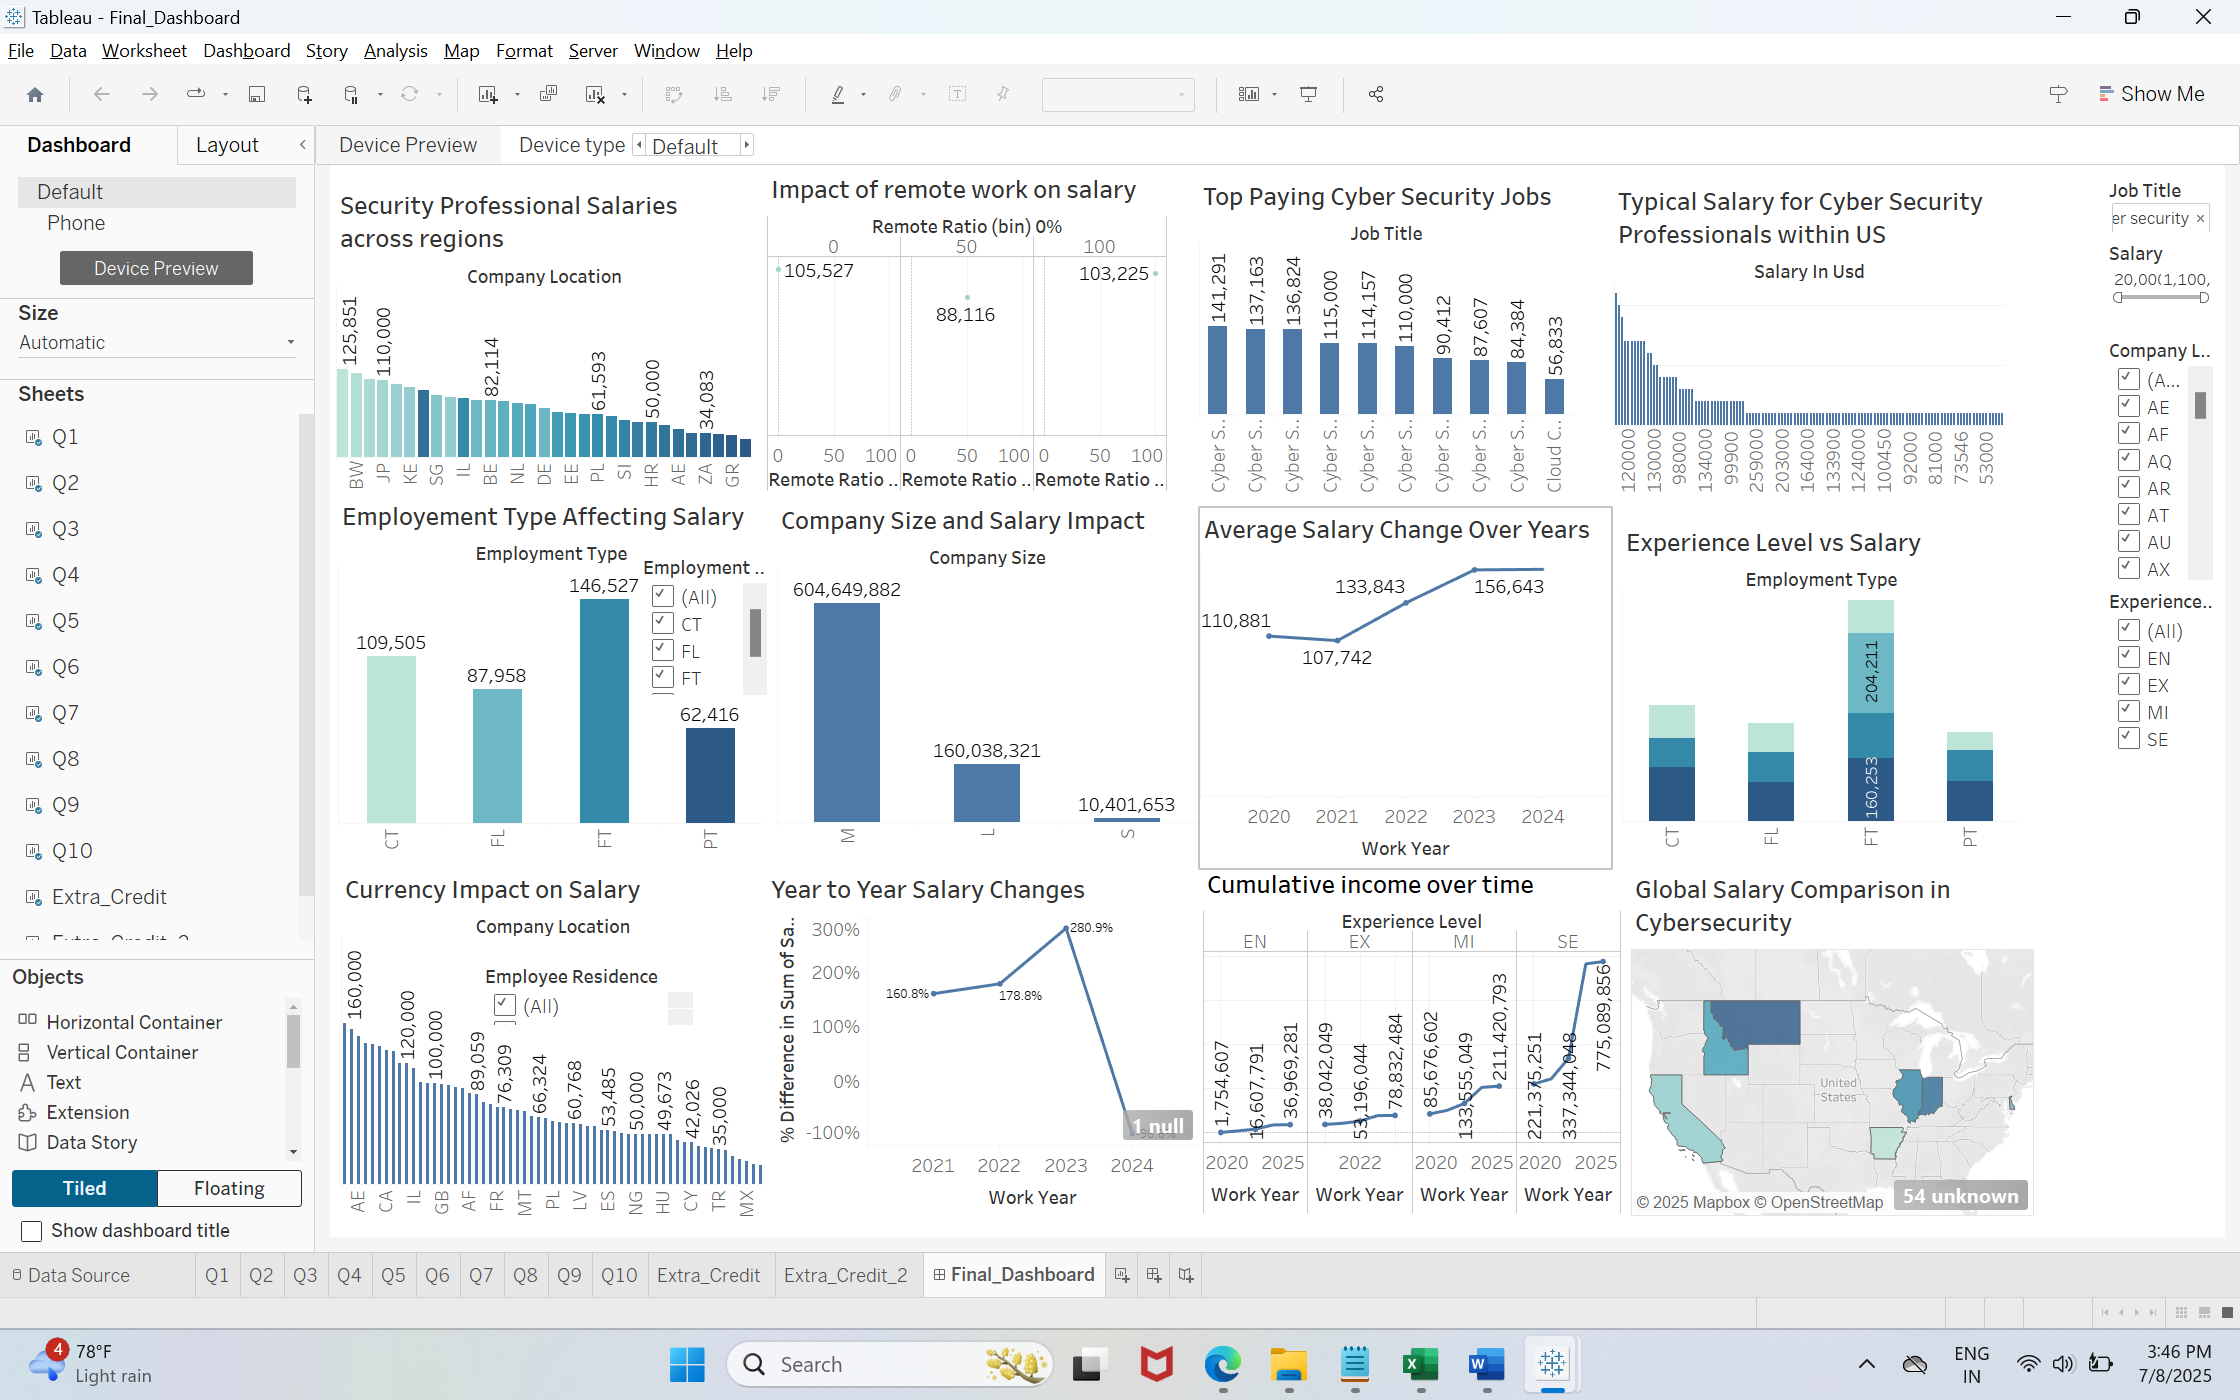

This screenshot's page, from the dashboard's own definition file:
{"tool":"tableau","page":{"name":"Final_Dashboard","canvas":[1000,1000],"units":"permille","ordinal":0},"visuals":[{"type":"worksheet","title":"Q2","mark":"Heatmap","rows":["salary_in_usd"],"cols":["Remote Ratio (bin) 2","Remote Ratio (bin)"],"box":[230.8,3,210.8,302.1]},{"type":"filter","title":"Q1","param":"[federated.1f91c411hm4wa51ars6zq0c63l0m (copy)].[none:job_title:nk]","box":[936.7,7.5,59.1,58.8]},{"type":"worksheet","title":"Q7","mark":"Automatic","rows":["salary_in_usd"],"cols":["job_title"],"box":[458.3,9.1,197.5,297.6]},{"type":"worksheet","title":"Q10","mark":"Bar","rows":["salaries.csv_90762AF2E223499099EDF7A3FD068BE3"],"cols":["salary_in_usd"],"box":[677.5,13.6,205.8,293.1]},{"type":"worksheet","title":"Q1","mark":"Automatic","rows":["salary_in_usd"],"cols":["company_location"],"box":[3.2,18.2,219.7,286.3]},{"type":"filter","title":"Q5","param":"[federated.1f91c411hm4wa51ars6zq0c63l0m (copy)].[sum:salary:qk]","box":[936.7,66.2,59.1,90.5]},{"type":"filter","title":"Q3","param":"[federated.1f91c411hm4wa51ars6zq0c63l0m (copy)].[none:company_location:nk]","box":[936.7,156.7,59.1,234.1]},{"type":"worksheet","title":"Q9","mark":"Automatic","rows":["salary_in_usd"],"cols":["employment_type"],"box":[4.2,308.2,225,342.9]},{"type":"worksheet","title":"Q6","mark":"Automatic","rows":["salary_in_usd"],"cols":["company_size"],"box":[235.8,311.2,221.7,338.4]},{"type":"worksheet","title":"Q8","mark":"Automatic","rows":["salary_in_usd"],"cols":["work_year"],"box":[459.2,320.2,216.7,335.4]},{"type":"worksheet","title":"Q3","mark":"Automatic","rows":["salary_in_usd"],"cols":["employment_type"],"box":[681.7,332.3,210,315.7]},{"type":"filter","title":"Q9","param":"[federated.1f91c411hm4wa51ars6zq0c63l0m].[none:employment_type:nk]","box":[165,362.5,65.8,131.4]},{"type":"filter","title":"Q3","param":"[federated.1f91c411hm4wa51ars6zq0c63l0m (copy)].[none:experience_level:nk]","box":[936.7,390.9,59.1,206.2]},{"type":"worksheet","title":"Extra_Credit_2","mark":"Automatic","rows":["salary_in_usd"],"cols":["experience_level","work_year"],"box":[460.8,651.1,220.8,327.8]},{"type":"worksheet","title":"Q4","mark":"Automatic","rows":["salary_in_usd"],"cols":["company_location"],"box":[5.8,655.6,223.3,332.3]},{"type":"worksheet","title":"Extra_Credit","mark":"Automatic","rows":["salary_in_usd"],"cols":["work_year"],"box":[230.8,655.6,227.5,324.8]},{"type":"worksheet","title":"Q5","mark":"Multipolygon","box":[686.7,655.6,212.5,324.8]},{"type":"filter","title":"Q4","param":"[federated.1f91c411hm4wa51ars6zq0c63l0m (copy)].[none:employee_residence:nk]","box":[81.7,744.7,110,57.4]}]}

Visuals, with their boxes on the dashboard's canvas, which has no fixed pixel size, in thousandths of its width and height (x1, y1, x2, y2). These are canvas units, not pixel positions in the 2240x1400 screenshot, which may show the page scaled, cropped or inside an application window:
"Q2" worksheet (Heatmap marks): <box>231,3,442,305</box>
"Q1" filter: <box>937,8,996,66</box>
"Q7" worksheet: <box>458,9,656,307</box>
"Q10" worksheet (Bar marks): <box>678,14,883,307</box>
"Q1" worksheet: <box>3,18,223,304</box>
"Q5" filter: <box>937,66,996,157</box>
"Q3" filter: <box>937,157,996,391</box>
"Q9" worksheet: <box>4,308,229,651</box>
"Q6" worksheet: <box>236,311,458,650</box>
"Q8" worksheet: <box>459,320,676,656</box>
"Q3" worksheet: <box>682,332,892,648</box>
"Q9" filter: <box>165,362,231,494</box>
"Q3" filter: <box>937,391,996,597</box>
"Extra_Credit_2" worksheet: <box>461,651,682,979</box>
"Q4" worksheet: <box>6,656,229,988</box>
"Extra_Credit" worksheet: <box>231,656,458,980</box>
"Q5" worksheet (Multipolygon marks): <box>687,656,899,980</box>
"Q4" filter: <box>82,745,192,802</box>
